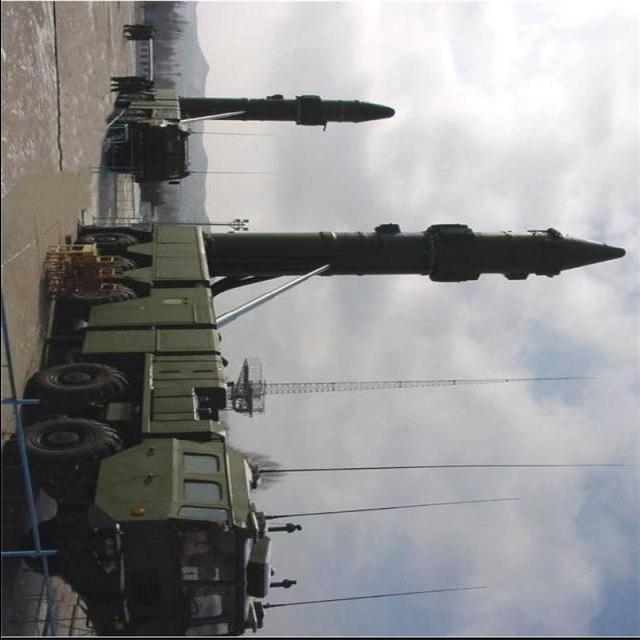Missile: (190, 223, 630, 283)
